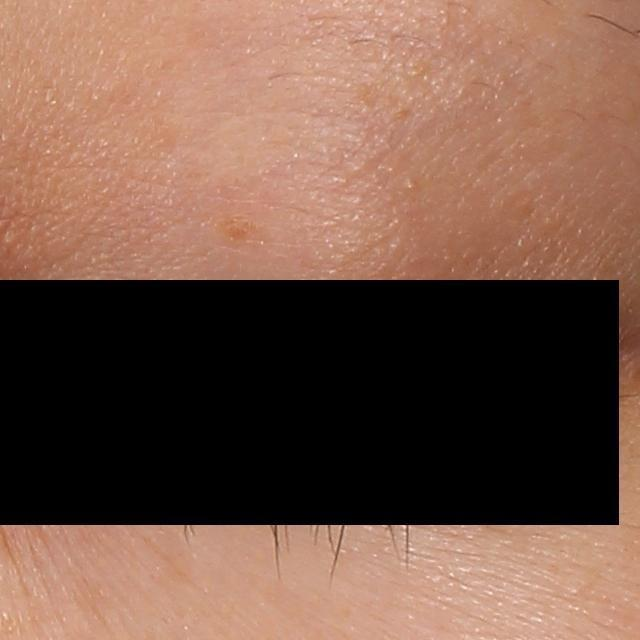melasma: (209, 214, 274, 249)
